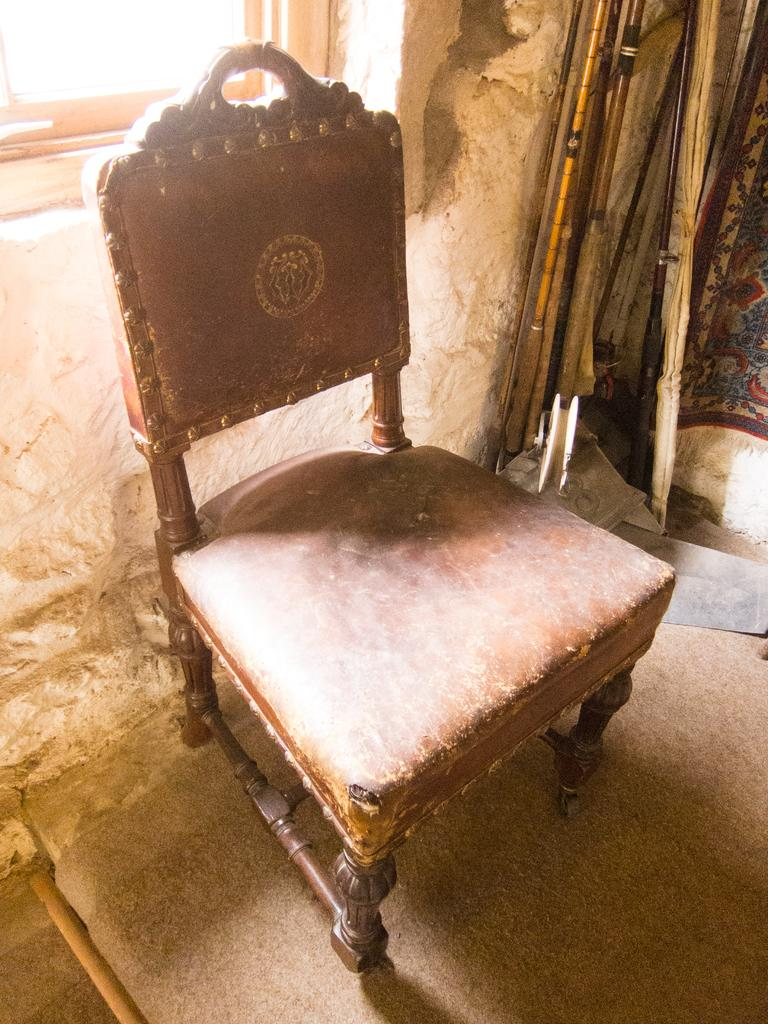Chair: (51, 26, 691, 974)
